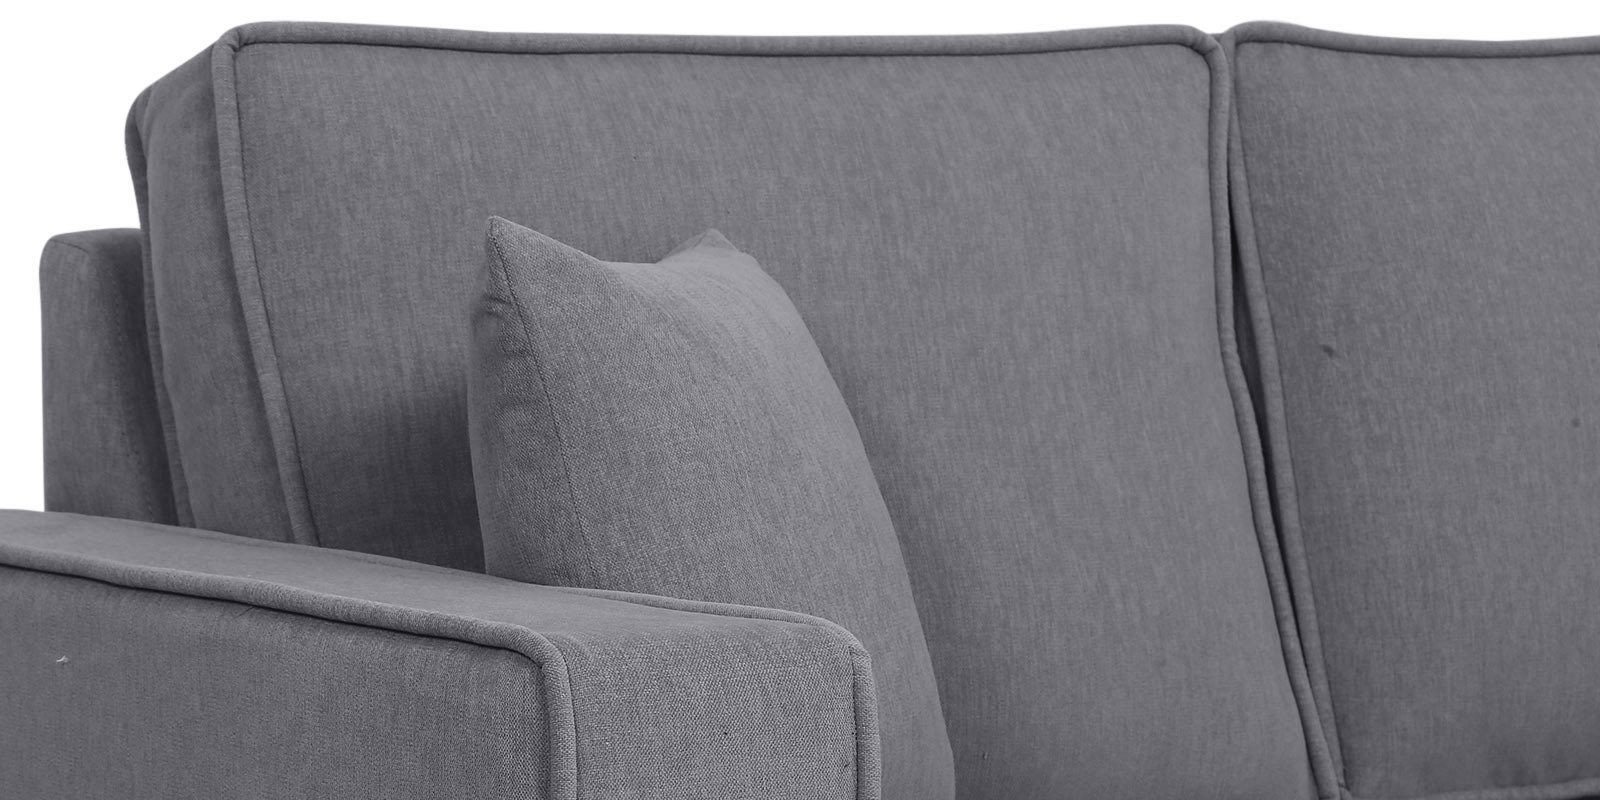Hugo Three Seater Sofa in Ash Grey Colour by CasaCraft: (8, 10, 1580, 800)
